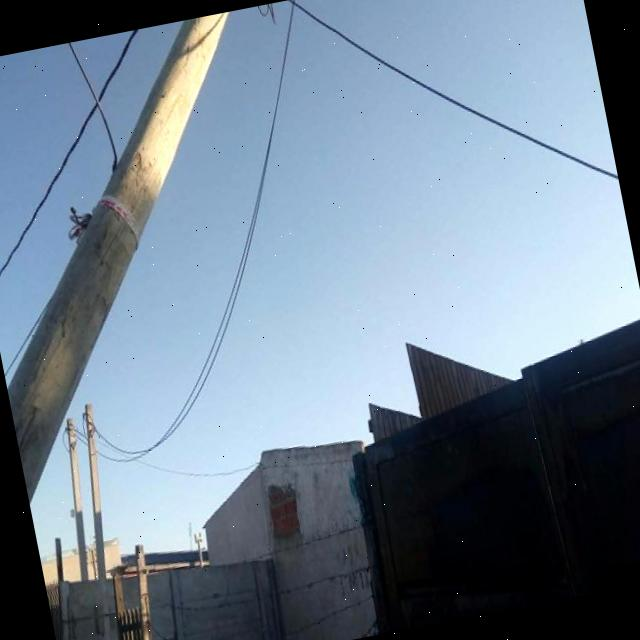Broken Pole: (4, 11, 232, 519)
